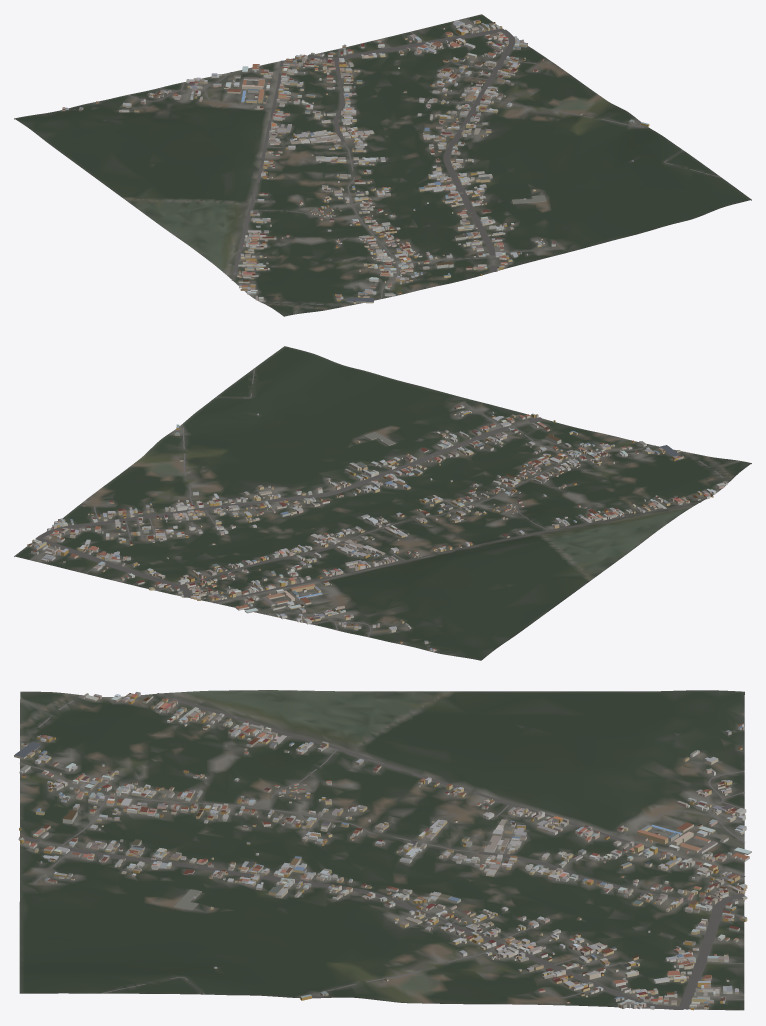
The picture shows the model from 3 angles, top to bottom: view 1: azimuth 30°, elevation 25°; view 2: azimuth 150°, elevation 25°; view 3: azimuth 270°, elevation 25°; orthographic projection. The views are drawn at different scales.
Parts seen in each view (by area): view 1: ground, buildings, roads; view 2: ground, buildings, roads; view 3: ground, buildings, roads.
Boxes of the visible parts, bbox=[...] form: ground: bbox=[14, 14, 751, 316]; buildings: bbox=[62, 19, 649, 304]; roads: bbox=[128, 18, 721, 305]; ground: bbox=[14, 346, 751, 660]; buildings: bbox=[27, 404, 727, 651]; roads: bbox=[30, 368, 728, 636]; ground: bbox=[19, 690, 744, 1010]; buildings: bbox=[14, 692, 751, 1010]; roads: bbox=[18, 693, 745, 1009].
Size of the model in its own units: 1414 by 39 by 1426.
